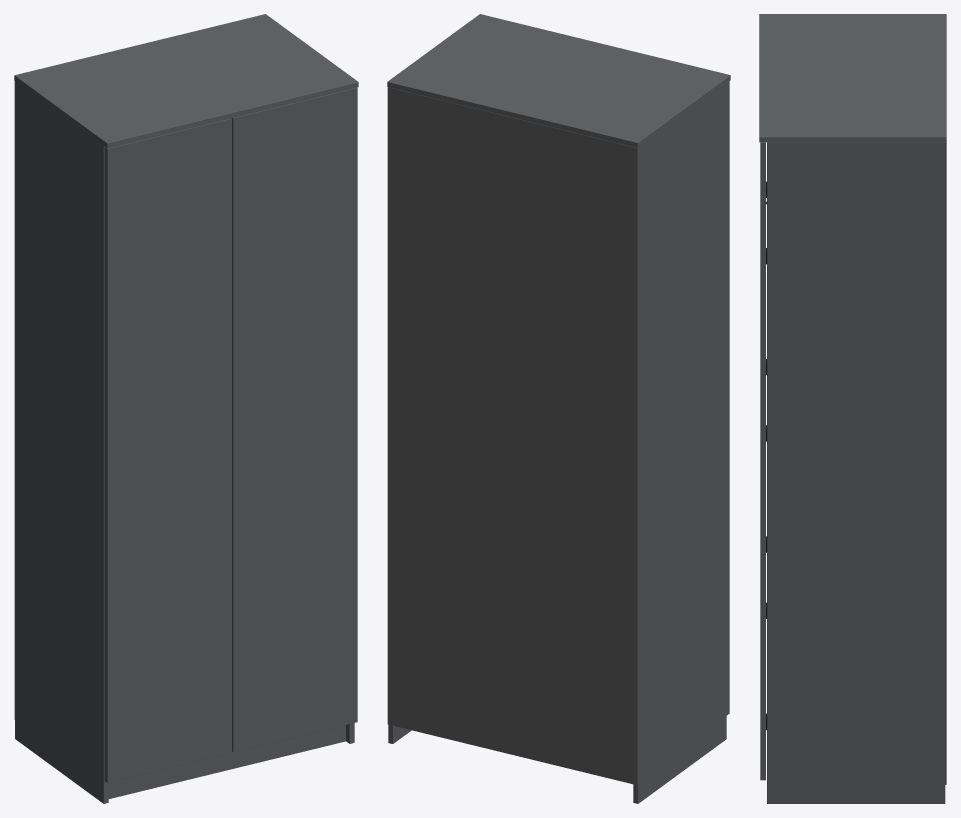
Rendered from wardrobe-09-chelsea-two-door.glb.
The picture shows the model from 3 angles, left to right: view 1: azimuth 30°, elevation 25°; view 2: azimuth 150°, elevation 25°; view 3: azimuth 270°, elevation 25°; orthographic projection.
Visible parts, largest first — view 1: Door_Right_Panel_Tile_ccc, Door_Left_Panel_Tile_ccc, Panel_Side_Left_Tile_ccc, Panel_Top_Tile_ccc, Plinth_Front_Tile_ccc, Door_Left_Panel_Tile_mcc, Panel_Top_Tile_ccp, Panel_Side_Left_Tile_ccp, Door_Right_Panel_Tile_mcc, Panel_Side_Left_Tile_ccm, Panel_Back_Tile_mcc, Door_Left_Panel_Tile_pcc; view 2: Panel_Back_Tile_ccc, Panel_Side_Left_Tile_ccc, Panel_Top_Tile_ccc, Door_Left_Panel_Tile_mcc, Panel_Top_Tile_ccm, Panel_Side_Left_Tile_ccm, Panel_Back_Tile_mcc; view 3: Panel_Side_Right_Tile_ccc, Panel_Top_Tile_ccc, Door_Right_Panel_Tile_pcc, Panel_Back_Tile_pcc, Panel_Top_Tile_pcc, Panel_Side_Right_Tile_ccp.
Boxes of the visible parts, x1,y1,x2,y2 form: Door_Right_Panel_Tile_ccc: (233, 88, 357, 751); Door_Left_Panel_Tile_ccc: (107, 119, 231, 782); Panel_Side_Left_Tile_ccc: (15, 81, 103, 803); Panel_Top_Tile_ccc: (15, 14, 357, 142); Plinth_Front_Tile_ccc: (108, 725, 345, 798); Door_Left_Panel_Tile_mcc: (104, 147, 107, 782); Panel_Top_Tile_ccp: (107, 82, 358, 148); Panel_Side_Left_Tile_ccp: (103, 146, 108, 803); Door_Right_Panel_Tile_mcc: (232, 118, 233, 752); Panel_Side_Left_Tile_ccm: (15, 81, 15, 738); Panel_Back_Tile_mcc: (14, 81, 14, 719); Door_Left_Panel_Tile_pcc: (231, 119, 231, 752); Panel_Back_Tile_ccc: (387, 87, 637, 784); Panel_Side_Left_Tile_ccc: (638, 83, 726, 803); Panel_Top_Tile_ccc: (388, 14, 729, 142); Door_Left_Panel_Tile_mcc: (726, 81, 729, 714); Panel_Top_Tile_ccm: (387, 82, 637, 147); Panel_Side_Left_Tile_ccm: (633, 148, 638, 803); Panel_Back_Tile_mcc: (637, 148, 637, 785); Panel_Side_Right_Tile_ccc: (767, 142, 945, 803); Panel_Top_Tile_ccc: (759, 14, 946, 136); Door_Right_Panel_Tile_pcc: (760, 143, 765, 780); Panel_Back_Tile_pcc: (945, 142, 946, 784); Panel_Top_Tile_pcc: (759, 137, 946, 142); Panel_Side_Right_Tile_ccp: (767, 143, 767, 803).
Size of the model in its own units: 0.802 by 2.02 by 0.514.
Materials: 170 (168 with a texture image).
